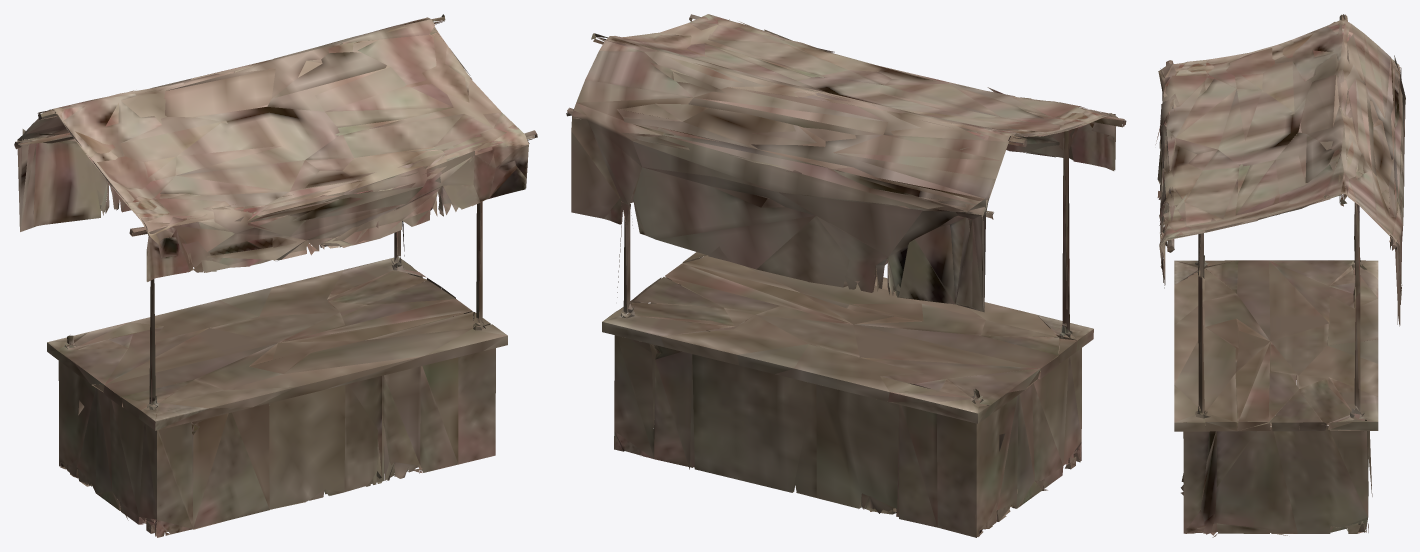
The model's file is market_stall.glb.
3 renders of one model, left to right at view 1: azimuth 30°, elevation 25°; view 2: azimuth 150°, elevation 25°; view 3: azimuth 270°, elevation 25°, orthographic. The views are drawn at different scales.
Visible parts, largest first — view 1: Mesh_0; view 2: Mesh_0; view 3: Mesh_0.
Part boxes in pixels (x1,y1,x2,y2): Mesh_0: [14, 14, 537, 537]; Mesh_0: [566, 14, 1126, 537]; Mesh_0: [1155, 14, 1405, 537].
Size of the model in its own units: 1.9 by 1.69 by 1.08.
1 material, 1 textured.
